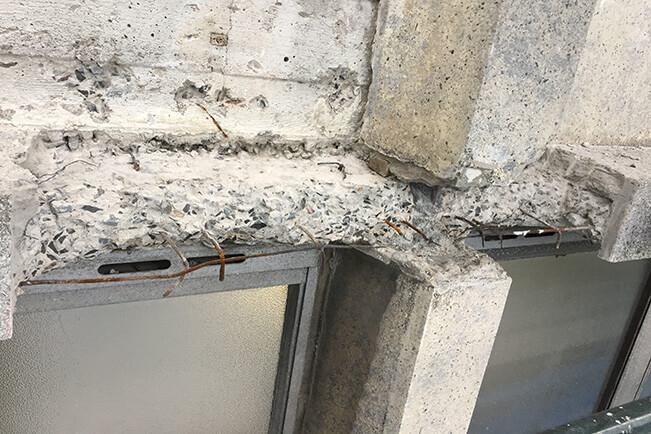Exposed reinforcement: (17, 245, 389, 288), (444, 224, 592, 242), (160, 231, 190, 298), (517, 207, 562, 250), (201, 227, 226, 283), (399, 219, 442, 248), (194, 102, 228, 138), (453, 216, 485, 249), (383, 219, 412, 242), (316, 161, 347, 180)
Spalling: (1, 135, 638, 294), (52, 38, 137, 125), (169, 78, 269, 116), (309, 64, 360, 115)
